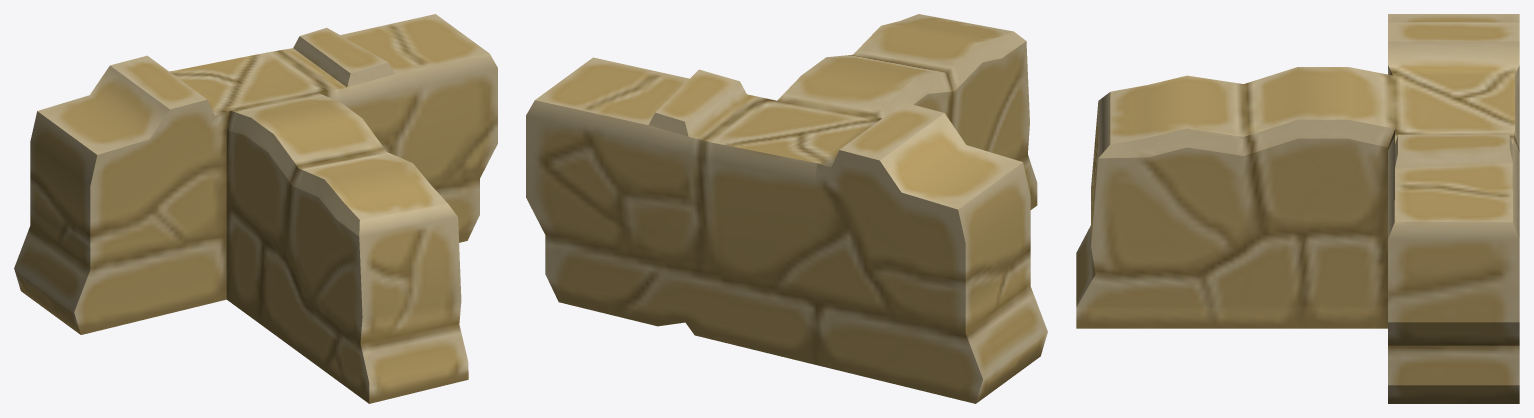
Rendered from Wall4.fbx.
The picture shows the model from 3 angles, left to right: view 1: azimuth 30°, elevation 25°; view 2: azimuth 150°, elevation 25°; view 3: azimuth 270°, elevation 25°; orthographic projection. The views are drawn at different scales.
Visible parts, largest first — view 1: pCube26; view 2: pCube26; view 3: pCube26.
Part boxes in pixels (<box>): pCube26: <box>14,14,497,403</box>; pCube26: <box>526,14,1047,403</box>; pCube26: <box>1076,14,1519,403</box>.
Bounding box in the file's own units: 2.15 × 0.9925 × 1.78.
